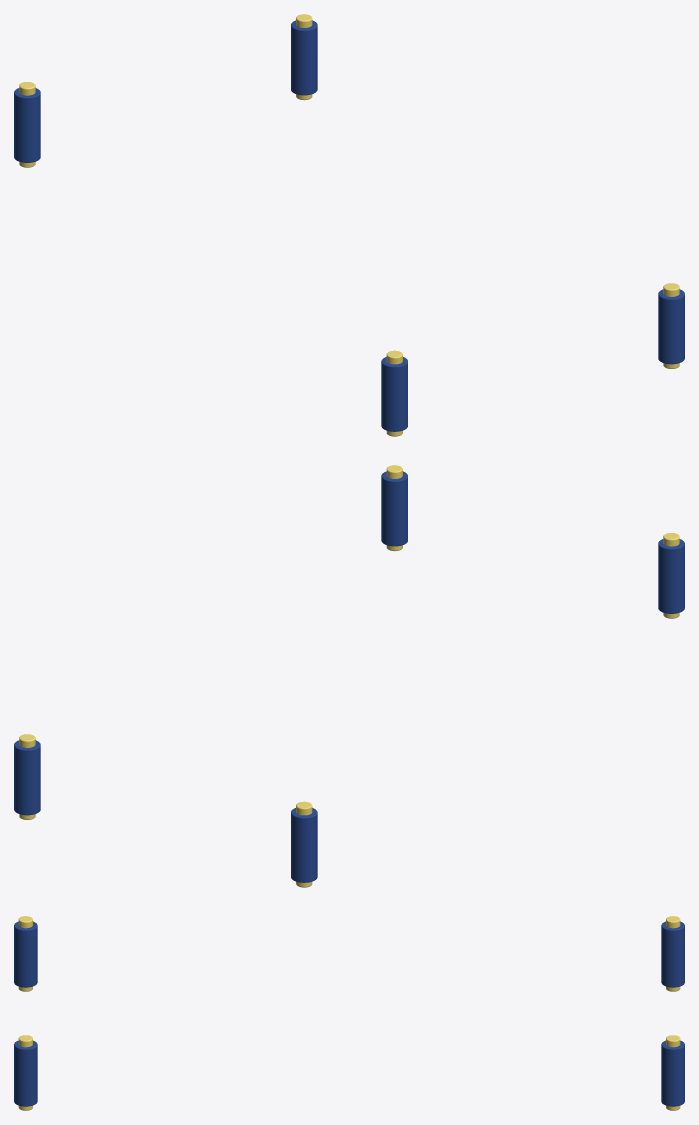
The model's file is coilovers.glb.
3 renders of one model, top to bottom at view 1: azimuth 30°, elevation 25°; view 2: azimuth 150°, elevation 25°; view 3: azimuth 270°, elevation 25°, orthographic. The views are drawn at different scales.
Visible parts, largest first — view 1: COIL_SPRING_RR, COIL_SPRING_FL, COIL_SPRING_FR, COIL_SPRING_RL; view 2: COIL_SPRING_FR, COIL_SPRING_RL, COIL_SPRING_RR, COIL_SPRING_FL; view 3: COIL_SPRING_FR, COIL_SPRING_RR, COIL_SPRING_FL, COIL_SPRING_RL.
Boxes of the visible parts, x1,y1,x2,y2 form: COIL_SPRING_RR: (658,289,684,364); COIL_SPRING_FL: (14,88,40,162); COIL_SPRING_FR: (291,20,317,95); COIL_SPRING_RL: (381,357,407,431); COIL_SPRING_FR: (14,740,40,815); COIL_SPRING_RL: (658,539,684,613); COIL_SPRING_RR: (381,471,407,546); COIL_SPRING_FL: (291,808,317,882); COIL_SPRING_FR: (661,1040,684,1106); COIL_SPRING_RR: (14,1040,37,1106); COIL_SPRING_FL: (661,921,684,987); COIL_SPRING_RL: (14,921,37,987).
Size of the model in its own units: 1.34 by 0.34 by 2.95.
